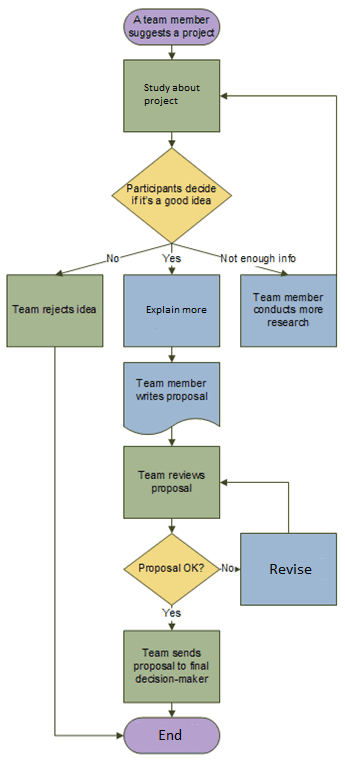arrow: (50, 347, 125, 740), (218, 93, 339, 276), (52, 239, 174, 280), (174, 239, 288, 282), (218, 476, 294, 536), (164, 241, 182, 274), (166, 603, 179, 631), (166, 344, 184, 363), (165, 423, 178, 447), (165, 40, 181, 59), (166, 513, 180, 534), (217, 565, 242, 576), (166, 699, 178, 720), (166, 130, 175, 147)
decision: (109, 147, 234, 244), (121, 534, 224, 612)
process: (2, 272, 107, 353), (236, 272, 342, 351), (120, 444, 227, 522), (120, 272, 224, 352), (121, 626, 225, 706), (237, 529, 340, 609), (121, 56, 223, 136), (120, 359, 224, 436)
terminator: (121, 6, 220, 48), (120, 715, 221, 756)
text: (132, 645, 210, 689), (250, 288, 325, 330), (130, 375, 213, 406), (124, 13, 215, 41), (123, 182, 220, 208), (135, 77, 206, 110), (136, 468, 208, 496), (216, 249, 295, 268), (10, 302, 102, 316), (135, 559, 207, 575), (144, 303, 208, 318), (156, 727, 187, 744), (160, 251, 186, 265), (161, 606, 185, 618), (104, 251, 122, 267), (218, 562, 236, 575)
